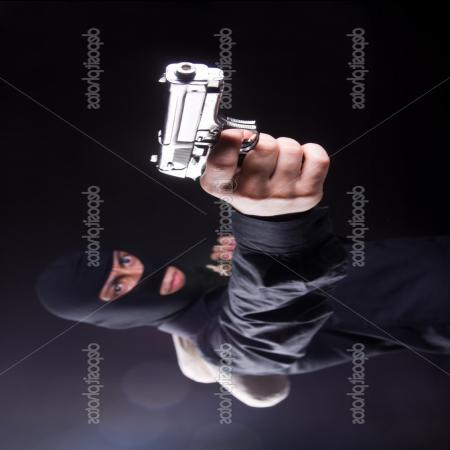Pistol: (136, 57, 300, 186)
